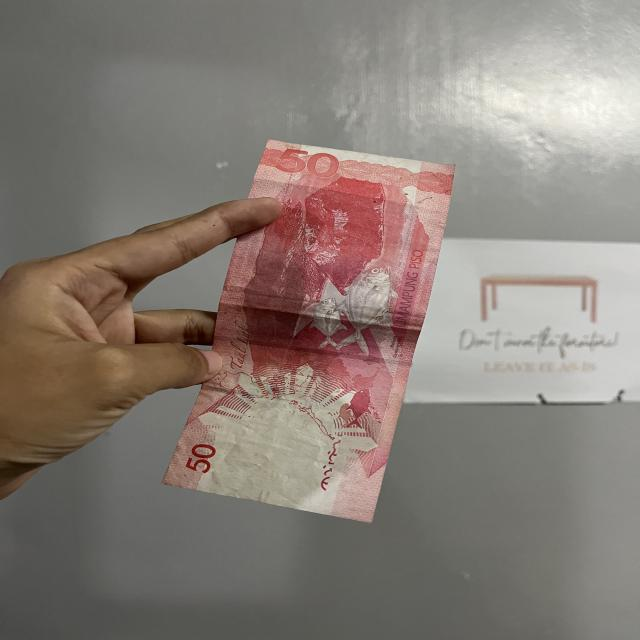see_through_mark: (311, 425, 362, 504)
